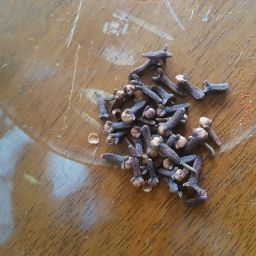Cloves: (88, 42, 234, 203)
